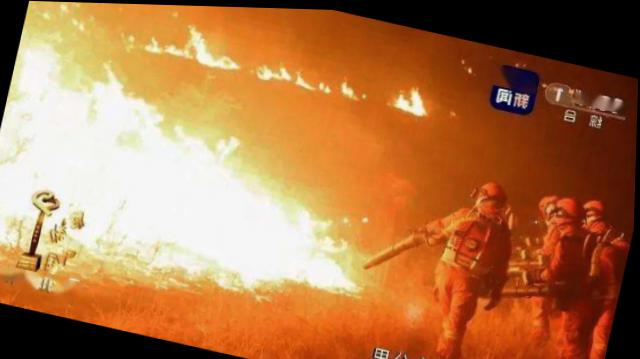fire: (0, 52, 391, 340), (119, 12, 444, 114)
